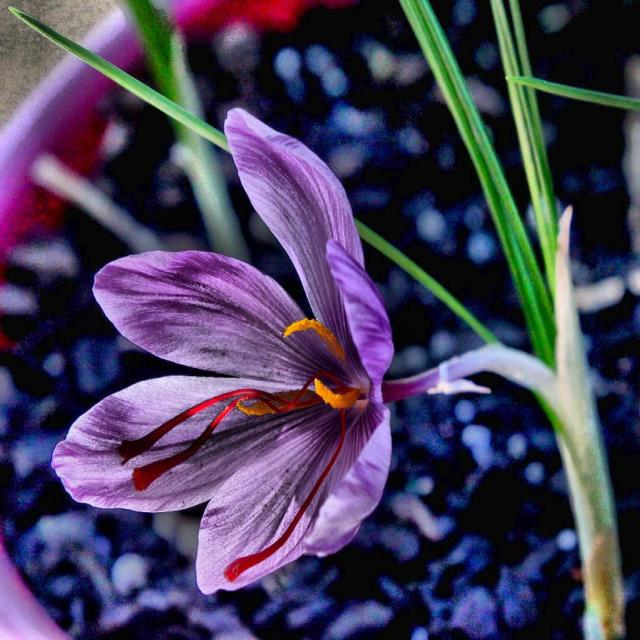Flower: (46, 102, 404, 601)
stigma: (96, 385, 371, 485), (231, 425, 364, 586)
